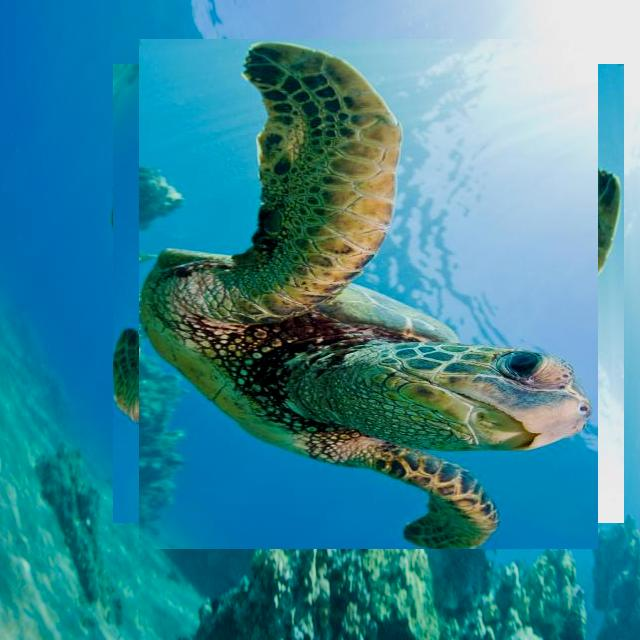Sea turtle: (126, 51, 611, 536)
